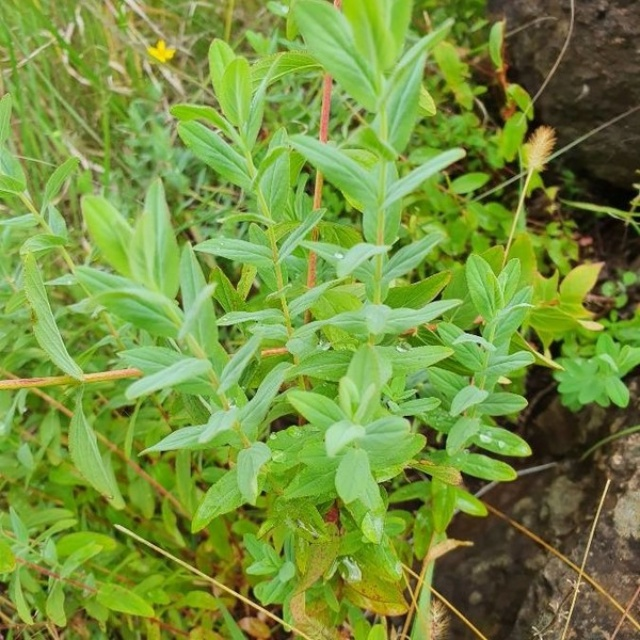obstacle: (70, 60, 524, 614)
